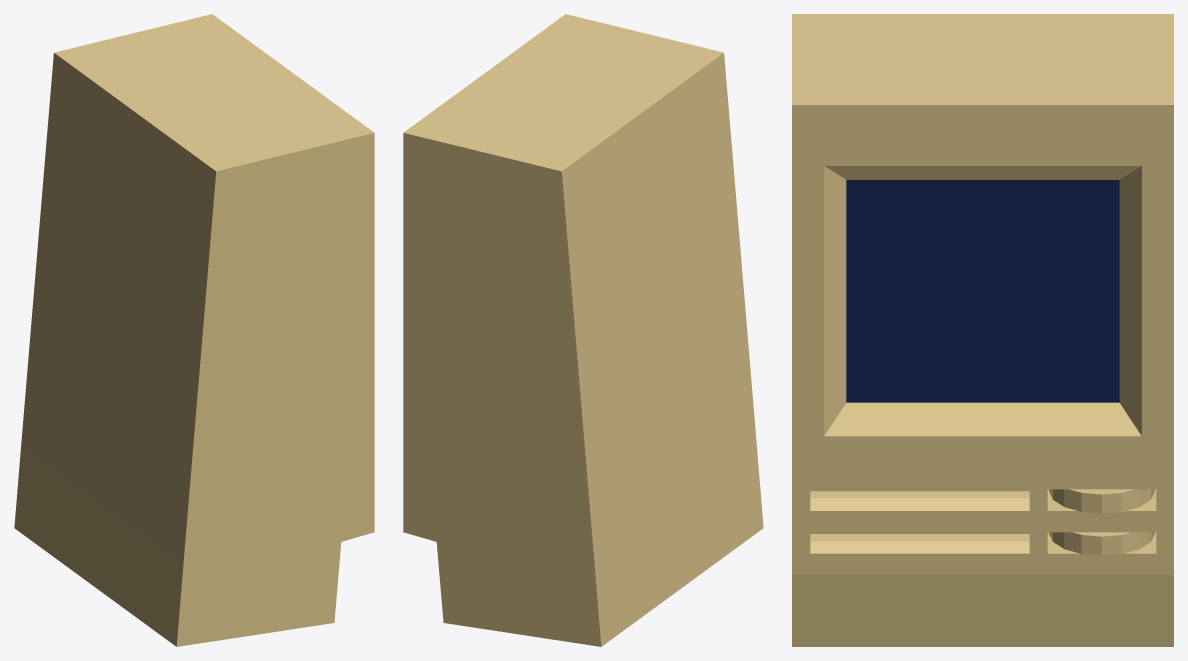
Rendered from lifese.glb.
The picture shows the model from 3 angles, left to right: view 1: azimuth 30°, elevation 25°; view 2: azimuth 150°, elevation 25°; view 3: azimuth 270°, elevation 25°; orthographic projection. The views are drawn at different scales.
Parts seen in each view (by area): view 1: Cube; view 2: Cube; view 3: Cube, Cube.001, Cube.002.
Part boxes in pixels (x1,y1,x2,y2): Cube: [14, 14, 374, 646]; Cube: [403, 14, 763, 646]; Cube: [792, 14, 1173, 646]; Cube.001: [1049, 489, 1154, 513]; Cube.002: [1049, 532, 1154, 555].
Size of the model in its own units: 3.63 by 8.14 by 4.98.
